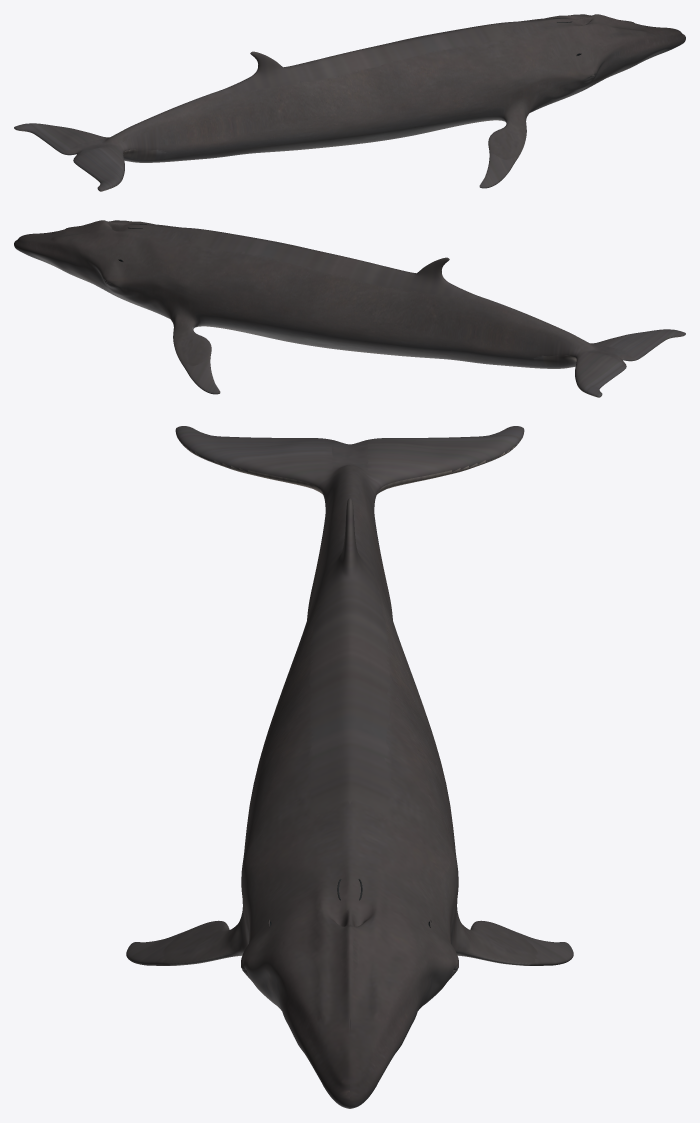
Rendered from model-cetacean-balaenoptera-ricei-v0678.glb.
The picture shows the model from 3 angles, top to bottom: view 1: azimuth 30°, elevation 25°; view 2: azimuth 150°, elevation 25°; view 3: azimuth 270°, elevation 25°; orthographic projection. The views are drawn at different scales.
Visible parts, largest first — view 1: balaenoptera-ricei licensed source body; view 2: balaenoptera-ricei licensed source body; view 3: balaenoptera-ricei licensed source body.
Part boxes in pixels (x1,y1,x2,y2): balaenoptera-ricei licensed source body: (14, 14, 685, 191); balaenoptera-ricei licensed source body: (14, 220, 685, 397); balaenoptera-ricei licensed source body: (126, 426, 573, 1108).
Size of the model in its own units: 3.84 by 0.8147 by 1.18.
Materials: 3 (1 with a texture image).
